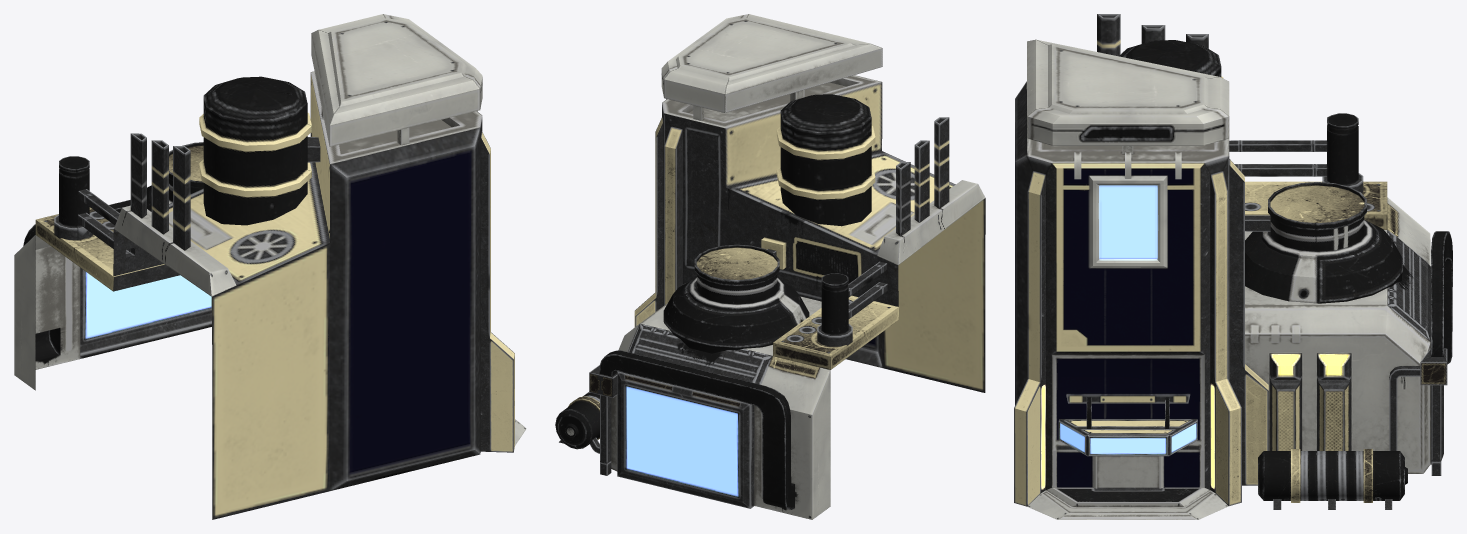
Rendered from future.glb.
The picture shows the model from 3 angles, left to right: view 1: azimuth 30°, elevation 25°; view 2: azimuth 150°, elevation 25°; view 3: azimuth 270°, elevation 25°; orthographic projection. The views are drawn at different scales.
Visible parts, largest first — view 1: Cylinder003; view 2: Cylinder003; view 3: Cylinder003.
Part boxes in pixels (bbox=[...]): Cylinder003: bbox=[14, 14, 526, 519]; Cylinder003: bbox=[555, 14, 985, 519]; Cylinder003: bbox=[1014, 14, 1452, 519].
Bounding box in the file's own units: 55.05 × 59.99 × 62.22.
1 material, 1 textured.
